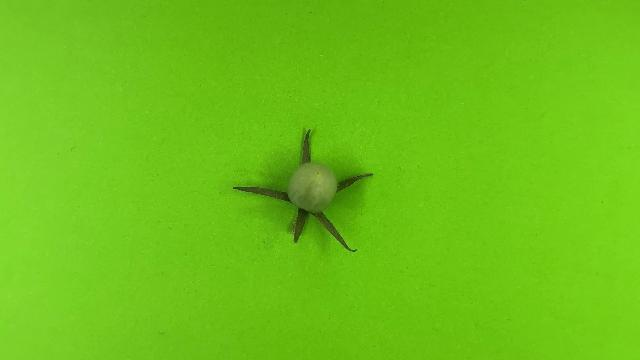Fruit Maturation: (285, 161, 339, 213)
